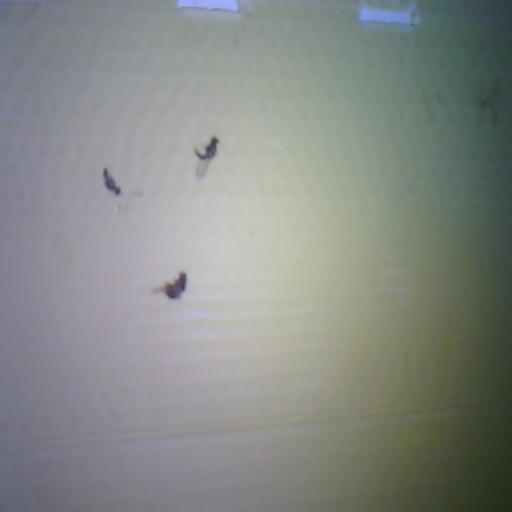Insects: (153, 271, 187, 299), (195, 137, 219, 160), (103, 168, 120, 195)
hole: (358, 0, 419, 26), (178, 0, 239, 10)
